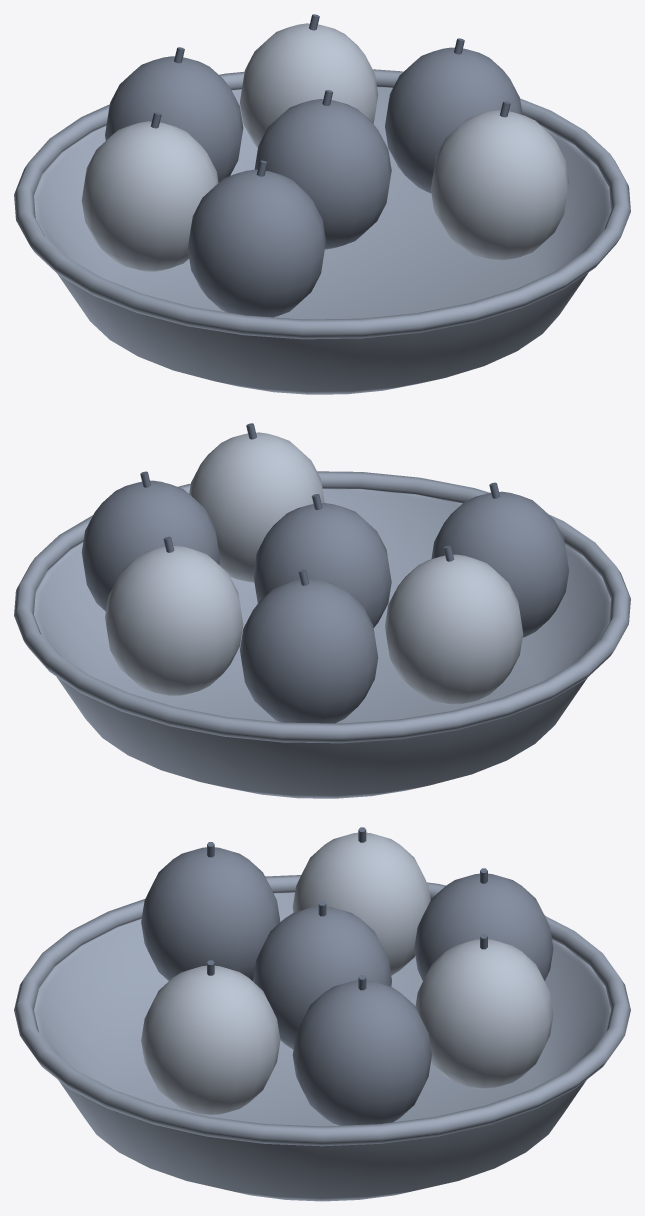
The model's file is fruit-basket-lite.glb.
The picture shows the model from 3 angles, top to bottom: view 1: azimuth 30°, elevation 25°; view 2: azimuth 150°, elevation 25°; view 3: azimuth 270°, elevation 25°; orthographic projection.
Parts seen in each view (by area): view 1: body, accent, soft, dark; view 2: body, accent, soft, dark; view 3: body, accent, soft, dark.
Boxes of the visible parts, x1,y1,x2,y2 form: body: (14,69,630,394); accent: (105,47,522,317); soft: (81,23,569,271); dark: (150,14,510,176); body: (14,471,630,798); accent: (81,480,568,723); soft: (105,432,523,704); dark: (140,423,500,585); body: (14,875,630,1201); accent: (141,847,553,1125); soft: (141,832,553,1115); dark: (207,827,487,990).
Size of the model in its own units: 0.31 by 0.1234 by 0.31.
